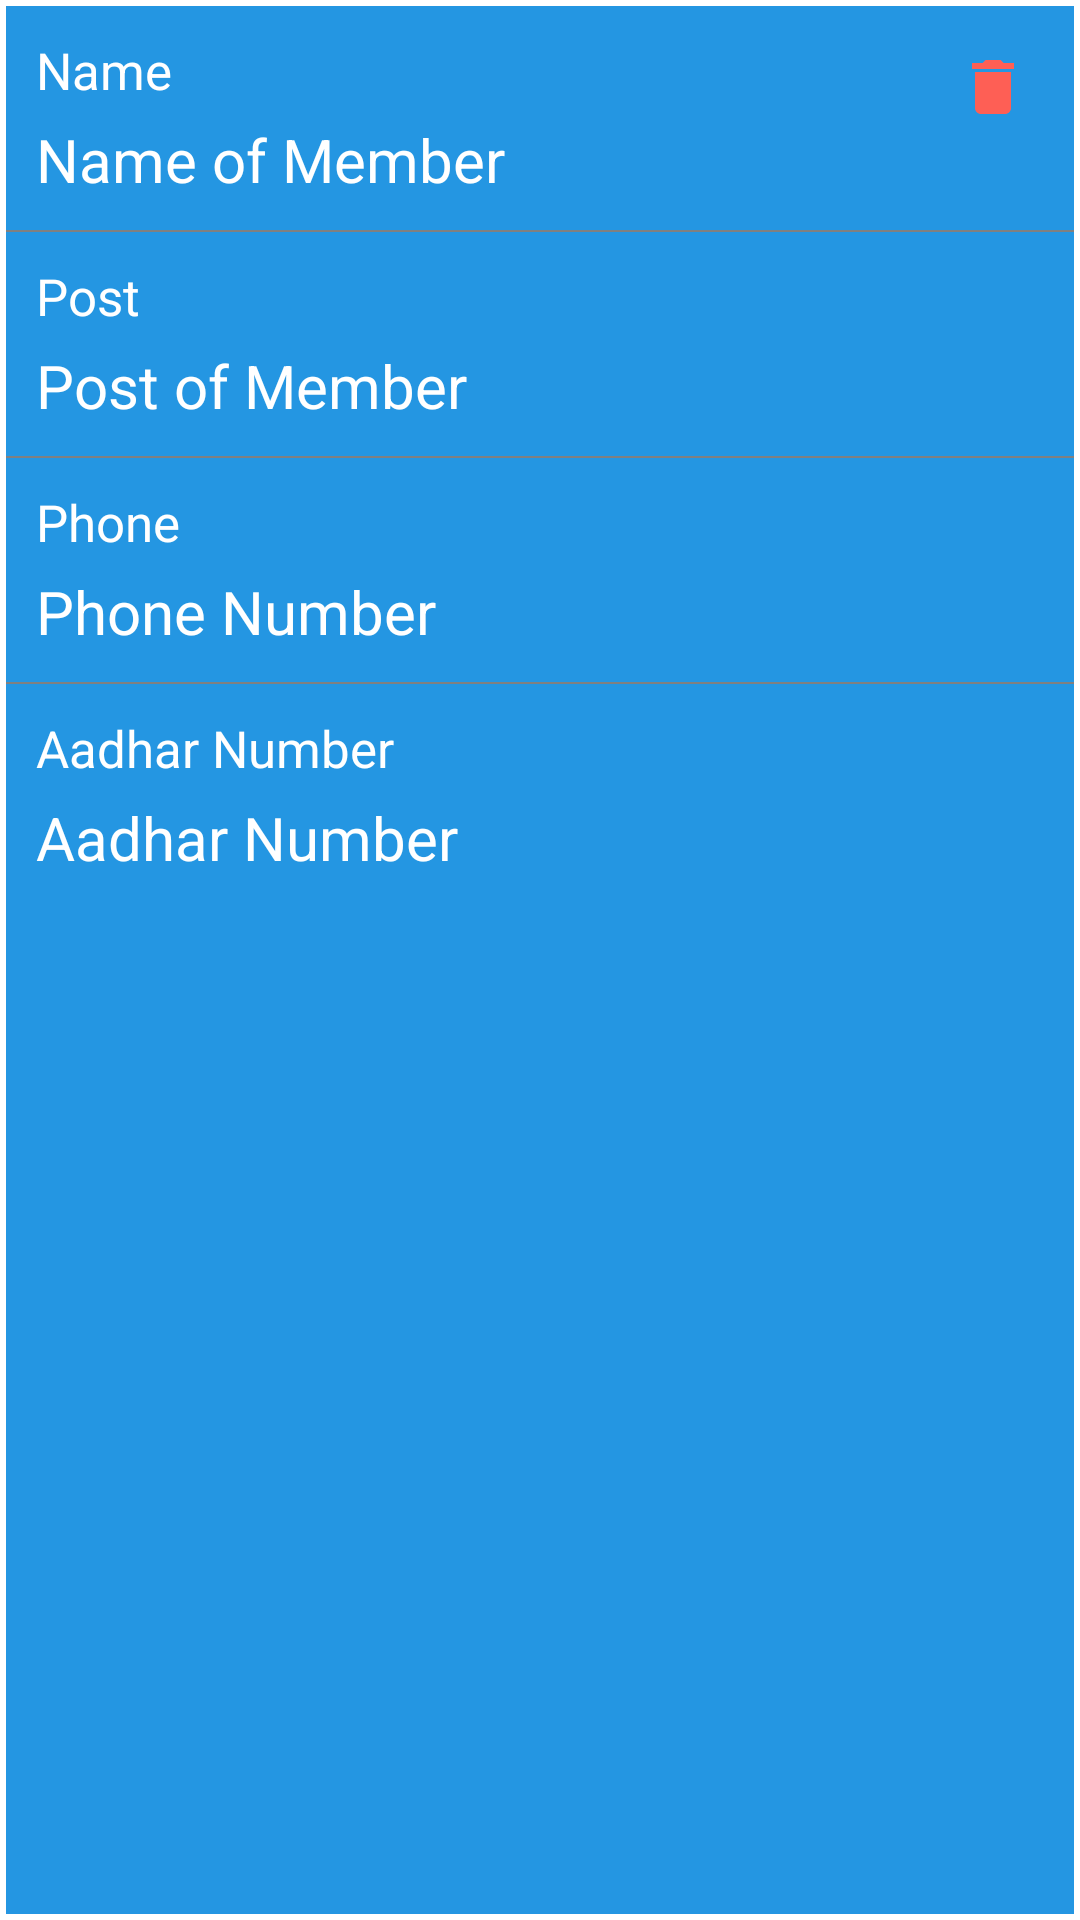

Where icons sit on this 1080 × 1920 app screen, as [x1,y1,x2,y2]:
delete: [972,60,1014,114]
